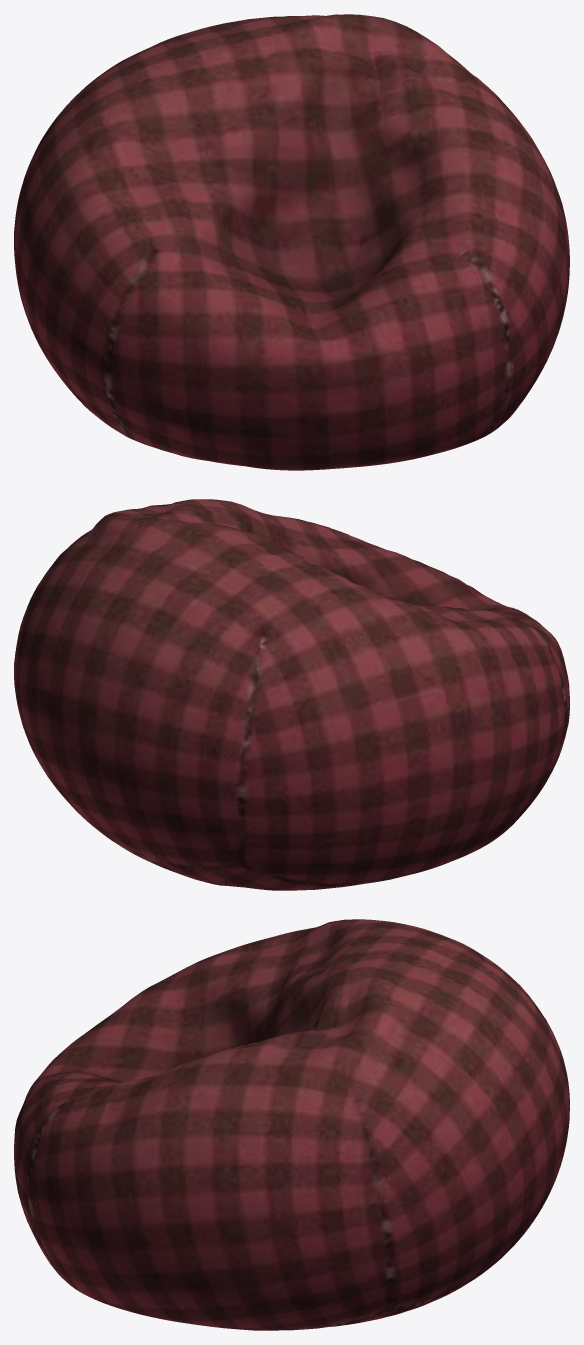
Rendered from beanbag.glb.
3 views of the same model, one above another, from view 1: azimuth 30°, elevation 25°; view 2: azimuth 150°, elevation 25°; view 3: azimuth 270°, elevation 25° (orthographic).
Parts seen in each view (by area): view 1: Cube_A_Bean_Bag_0; view 2: Cube_A_Bean_Bag_0; view 3: Cube_A_Bean_Bag_0.
Part boxes in pixels (box(x1,y1,x2,y2)): Cube_A_Bean_Bag_0: box(14, 14, 569, 470); Cube_A_Bean_Bag_0: box(14, 499, 569, 890); Cube_A_Bean_Bag_0: box(14, 919, 569, 1330).
Bounding box in the file's own units: 0.851 × 0.5089 × 0.8569.
1 material, 1 textured.
